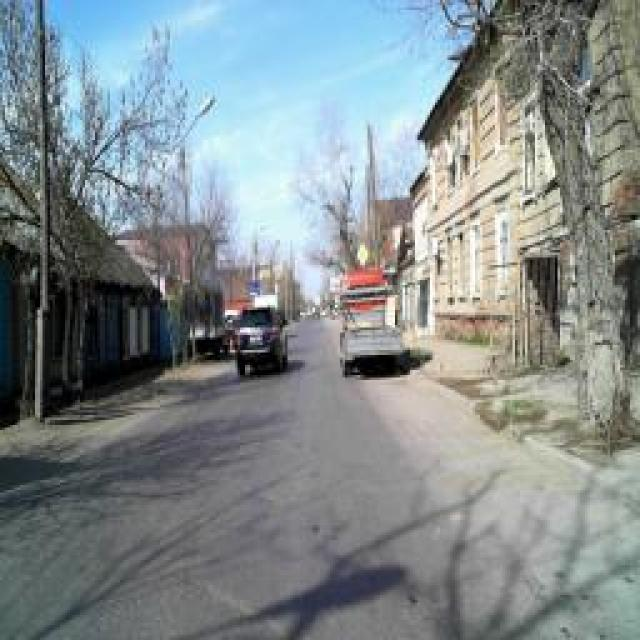sign: (355, 242, 370, 266)
